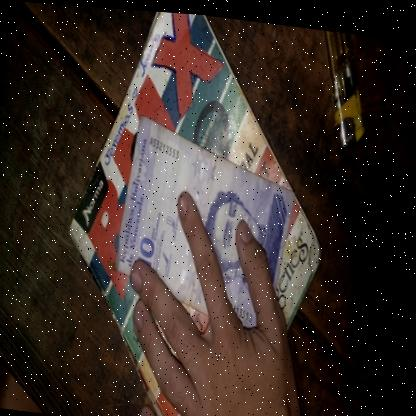ten-front-vef: (112, 111, 301, 333)
